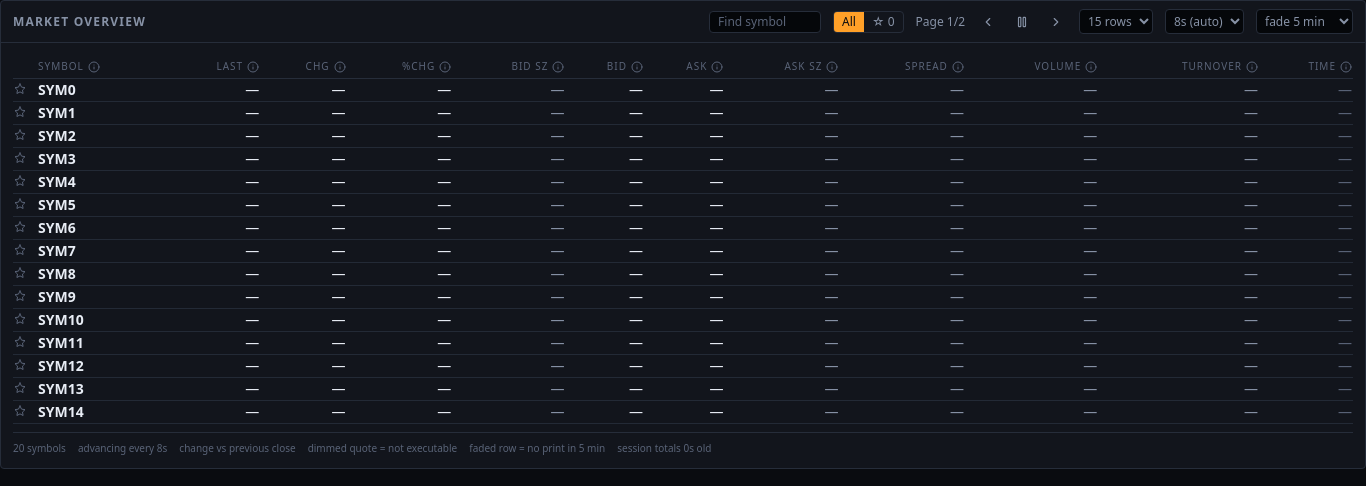
paging controls › re-pages against a rows-per-page choice from the dropdown
Expected: the text "Page 1/2" is shown, [916,14,965,30]
Select "5 rows" in the dropdown named "Rows per page" at (1116,22), box [1079,9,1153,34]
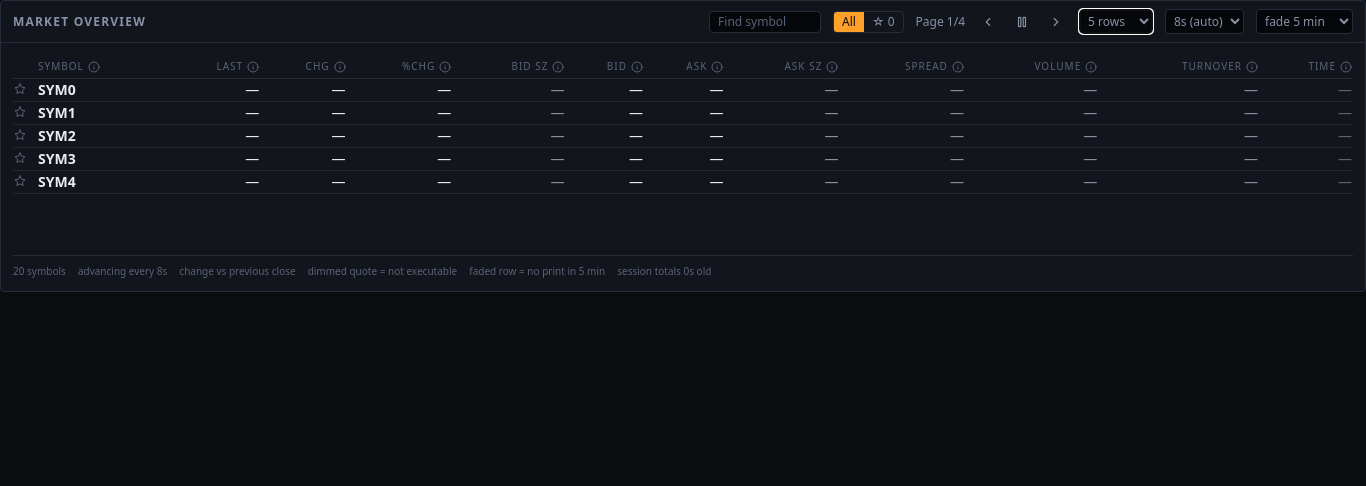
Expected: the text "Page 1/4" is shown, [916,14,965,30]
Expected: the text "SYM0" is shown 5 times, [38,80,76,99]; [38,103,76,122]; [38,126,76,145]; [38,149,76,168]; [38,172,76,191]
